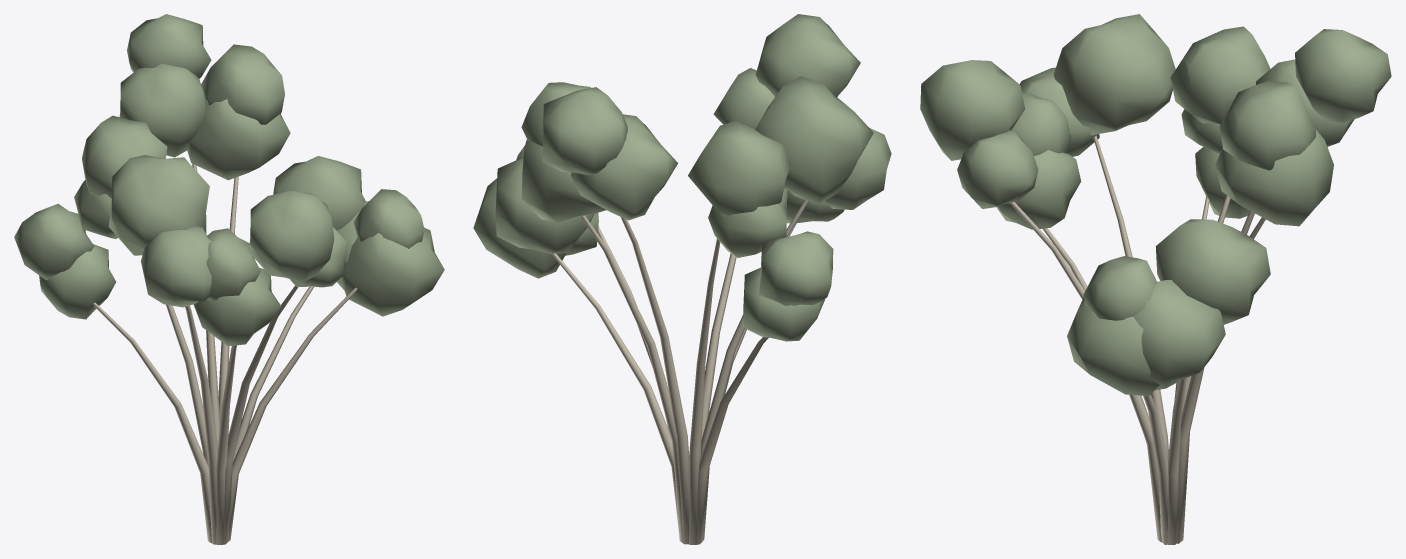
File: alpine-and-arctic-biomes-dwarf-birch-bf28d26e__20960.glb
The picture shows the model from 3 angles, left to right: view 1: azimuth 30°, elevation 25°; view 2: azimuth 150°, elevation 25°; view 3: azimuth 270°, elevation 25°; orthographic projection. The views are drawn at different scales.
Parts seen in each view (by area): view 1: dwarf-birch; view 2: dwarf-birch; view 3: dwarf-birch.
Part boxes in pixels (box(x1,y1,x2,y2)): dwarf-birch: box(14, 14, 444, 544); dwarf-birch: box(473, 14, 891, 544); dwarf-birch: box(920, 14, 1391, 544).
Size of the model in its own units: 1.14 by 1.4 by 1.14.
